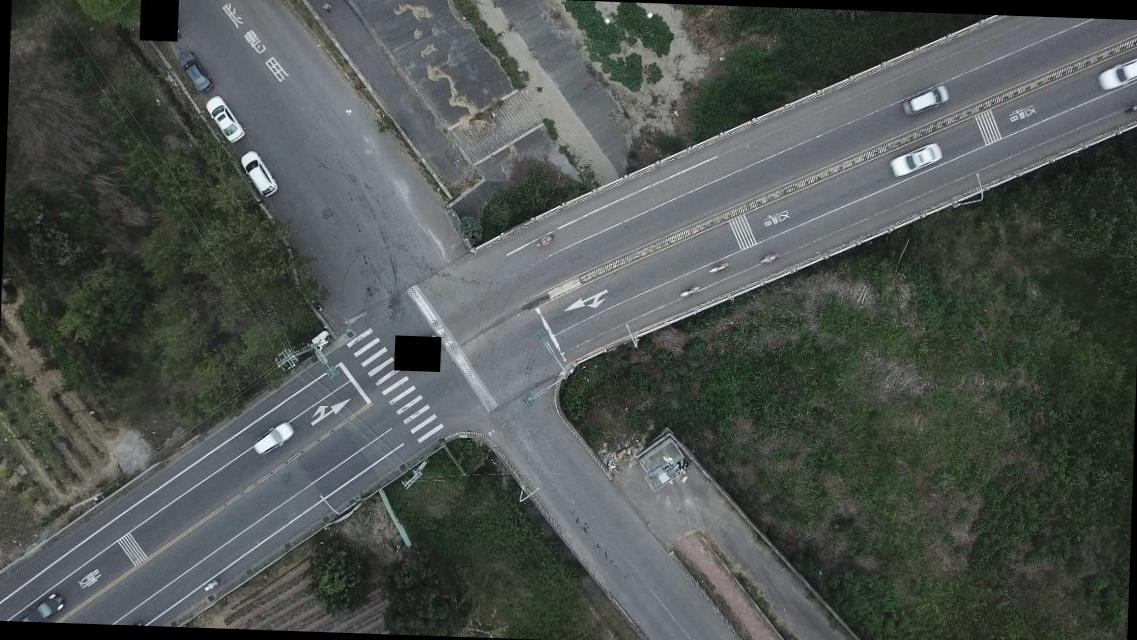vehicle: (888, 139, 942, 182), (203, 94, 248, 142), (236, 150, 280, 198), (252, 418, 295, 458), (14, 588, 64, 622), (177, 48, 215, 92), (1095, 54, 1136, 93), (900, 84, 948, 115)
